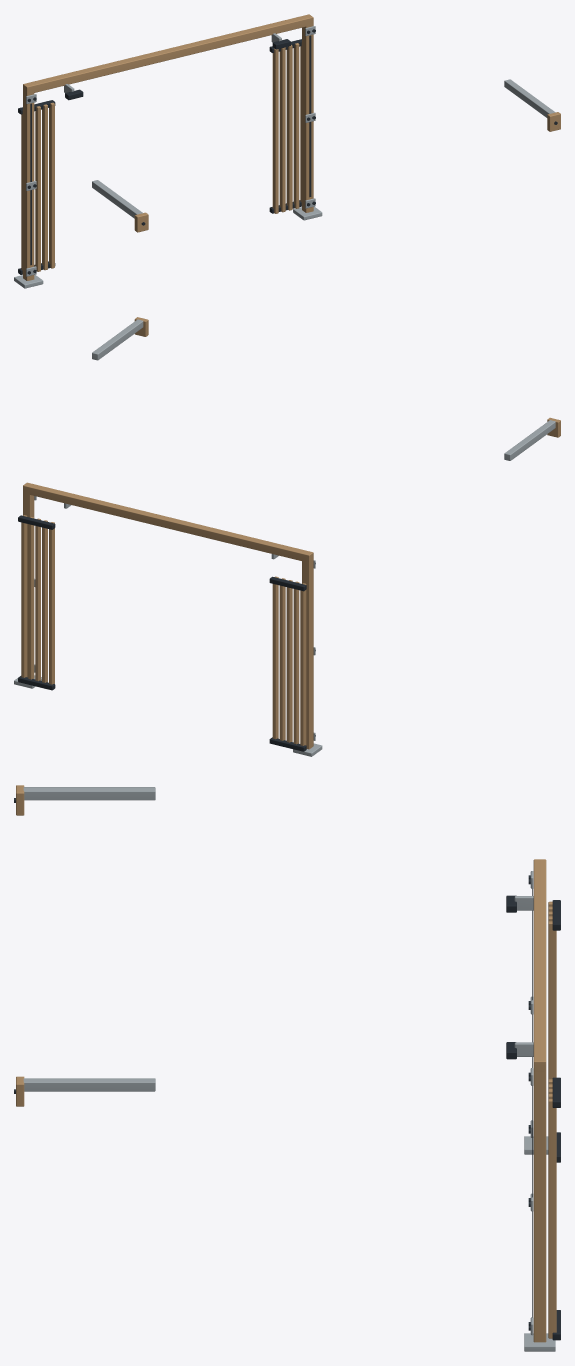
File: living.glb
3 renders of one model, top to bottom at view 1: azimuth 30°, elevation 25°; view 2: azimuth 150°, elevation 25°; view 3: azimuth 270°, elevation 25°, orthographic. The views are drawn at different scales.
Parts seen in each view (by area): view 1: Roofless modular frame living; view 2: Roofless modular frame living; view 3: Roofless modular frame living.
Boxes of the visible parts, x1,y1,x2,y2 form: Roofless modular frame living: (14,14,560,288); Roofless modular frame living: (14,317,560,756); Roofless modular frame living: (14,785,560,1351).
Size of the model in its own units: 6.74 by 3.28 by 5.21.
